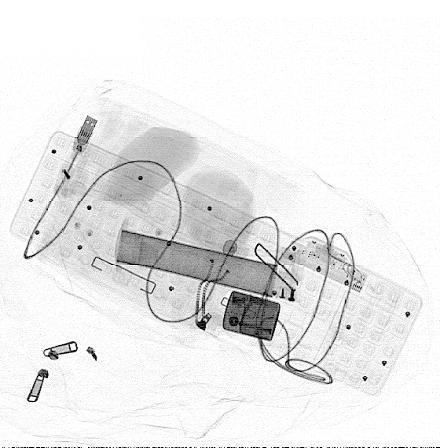Lighter: (222, 290, 280, 341)
